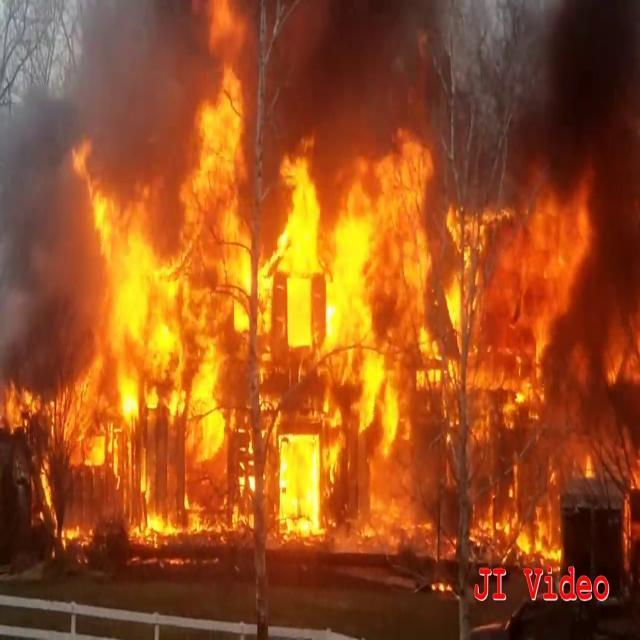Fire: (9, 81, 613, 564)
Smoke: (0, 1, 112, 368)
